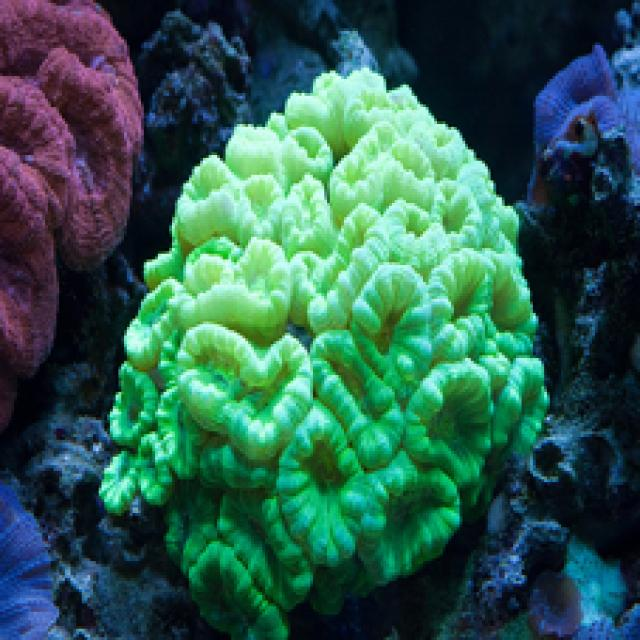Healthy: (100, 71, 548, 638), (1, 1, 142, 430)
